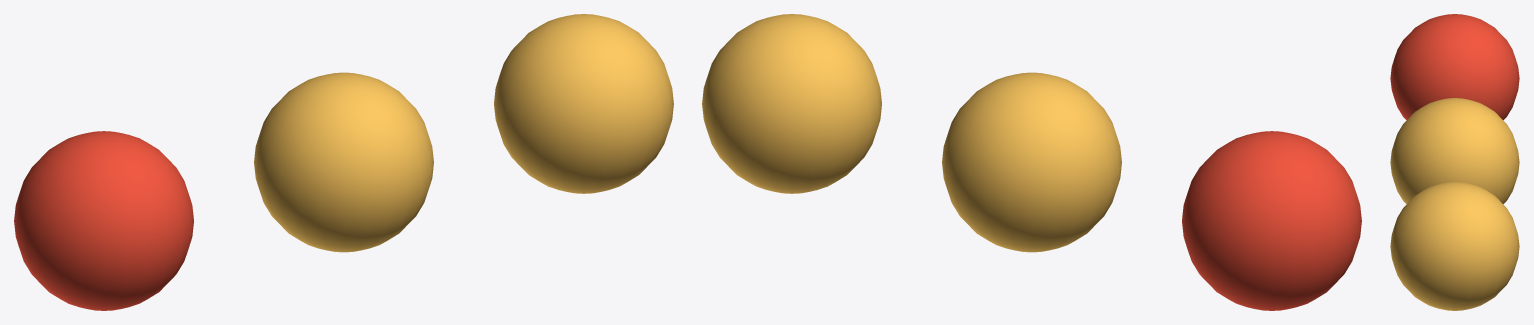
File: material_spheres.gltf
3 renders of one model, left to right at view 1: azimuth 30°, elevation 25°; view 2: azimuth 150°, elevation 25°; view 3: azimuth 270°, elevation 25°, orthographic. The views are drawn at different scales.
Size of the model in its own units: 5.3 by 1.3 by 1.3.
